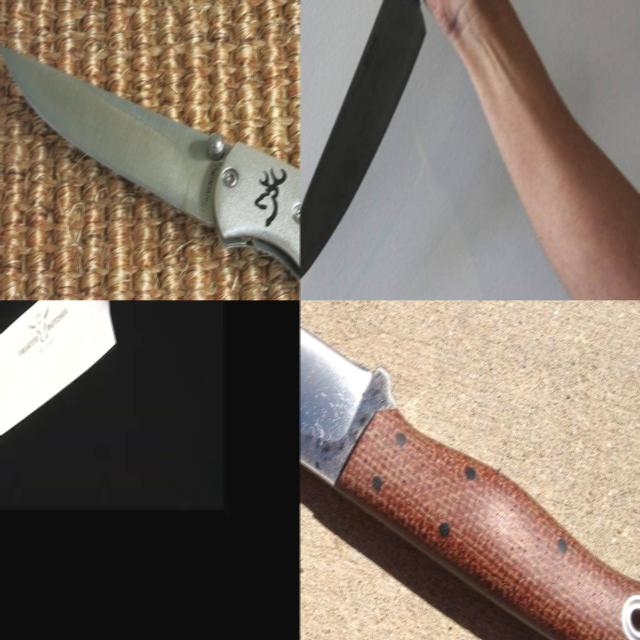Knife_Handle: (300, 0, 496, 294), (0, 300, 146, 495)
